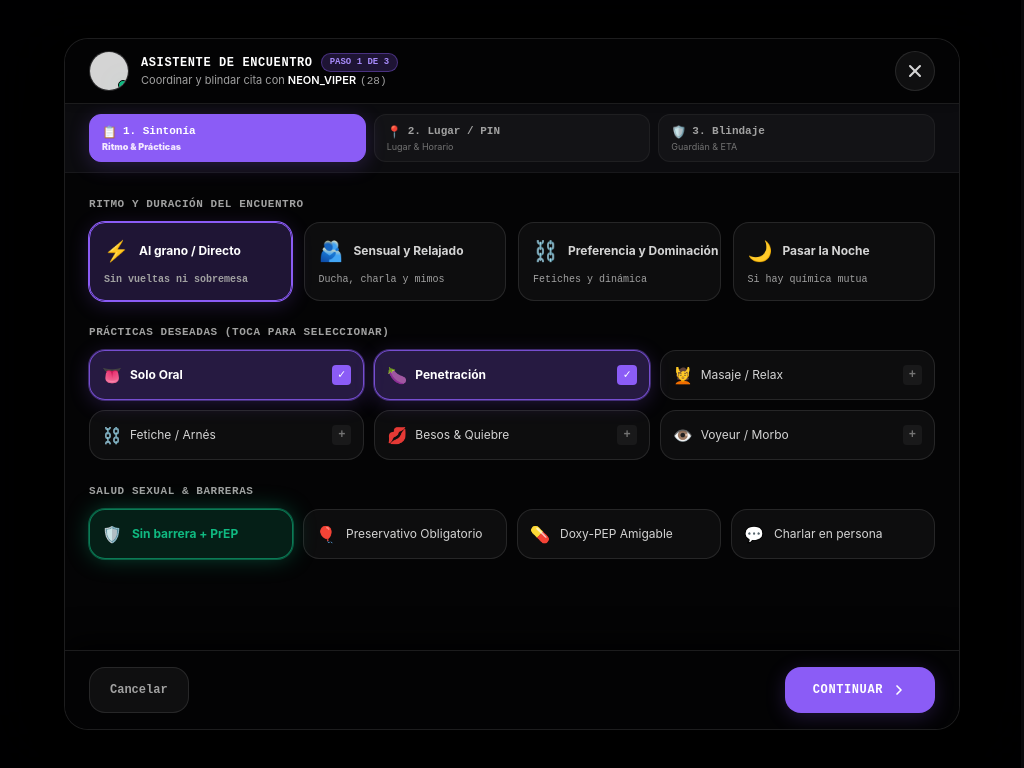
Test case: RendezvousSheet — Asistente Unificado de Cita (Fase 2) › debe avanzar a través de los pasos 1 -> 2 -> 3 correctamente
En paso 1, hacer click en Continuar
Click the button "Continuar". click: {"x": 860, "y": 690}
box: [785, 667, 935, 713]
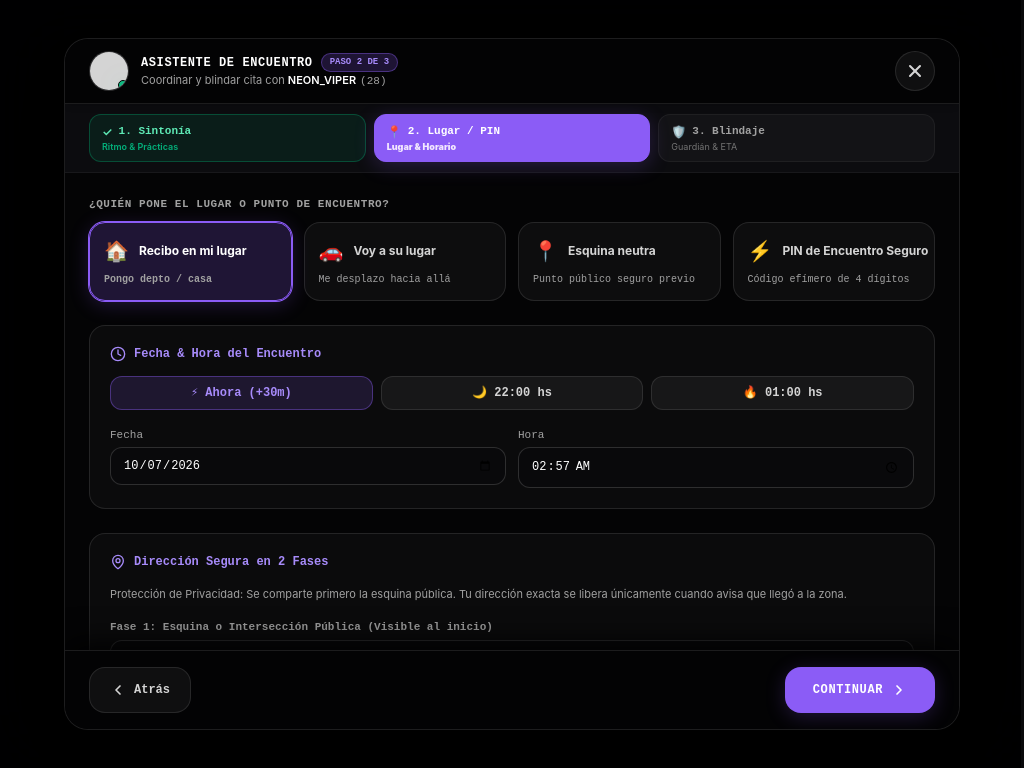
Check: the text "¿Quién Pone el Lugar o Punto de Encuentro?" is shown, box [89, 198, 389, 210]
Check: the text "Recibo en mi lugar" is shown, box [139, 243, 247, 259]
Check: the text "PIN de Encuentro Seguro" is shown, box [782, 243, 928, 259]
En paso 2, hacer click en Continuar
Click the button "Continuar". click: {"x": 860, "y": 690}
box: [785, 667, 935, 713]
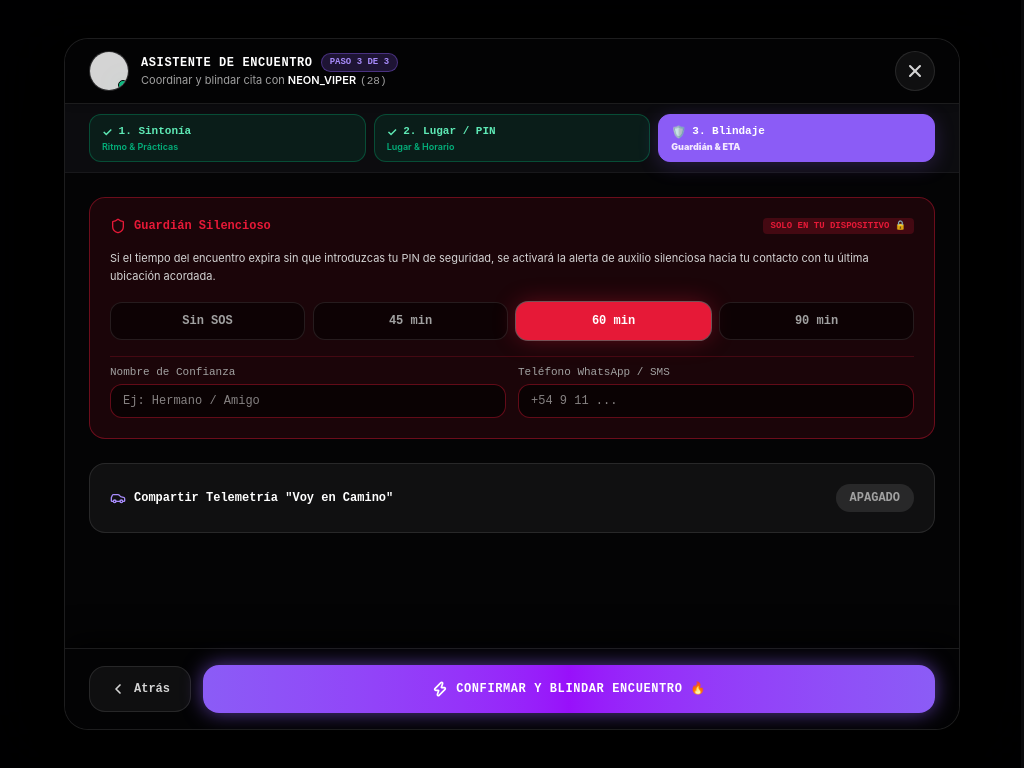
Check: the text "Guardián Silencioso" is shown, box [134, 218, 271, 234]
Check: the text "Compartir Telemetría \"Voy en Camino\"" is shown, box [134, 490, 393, 506]
